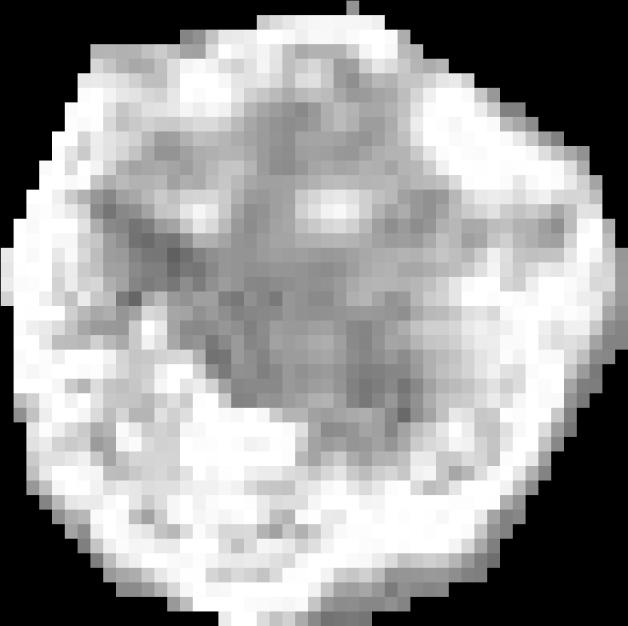tumor_good_chance: (1, 1, 628, 626)
